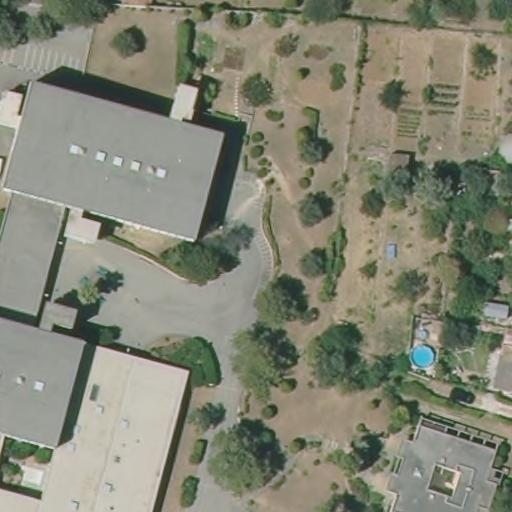pool: (406, 339, 439, 372)
